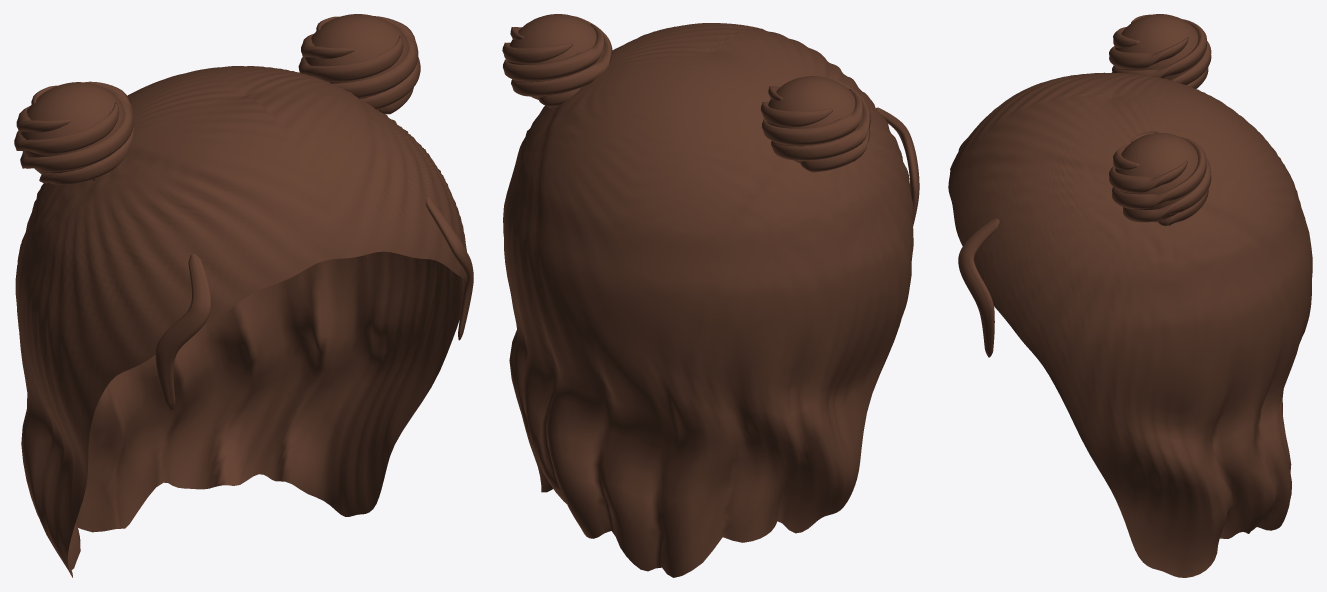
The model's file is space-buns-none.glb.
3 views of the same model, side by side, from view 1: azimuth 30°, elevation 25°; view 2: azimuth 150°, elevation 25°; view 3: azimuth 270°, elevation 25° (orthographic). The views are drawn at different scales.
Parts seen in each view (by area): view 1: 226 hair / Hair / chestnut226; view 2: 226 hair / Hair / chestnut226; view 3: 226 hair / Hair / chestnut226.
Boxes of the visible parts, box(x1,y1,x2,y2) form: 226 hair / Hair / chestnut226: box(14, 14, 473, 577); 226 hair / Hair / chestnut226: box(502, 14, 919, 577); 226 hair / Hair / chestnut226: box(948, 14, 1312, 577).
Bounding box in the file's own units: 0.8048 × 1 × 0.7316.
